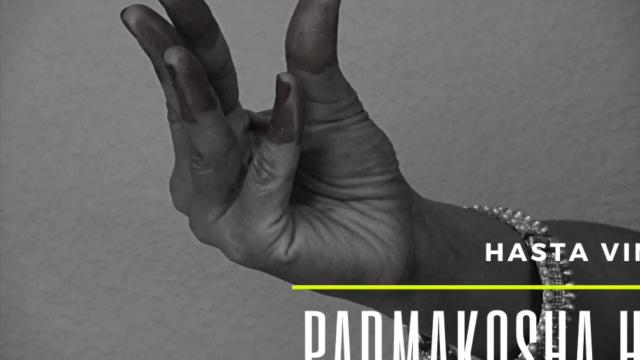padamkosh: (104, 2, 470, 322)
